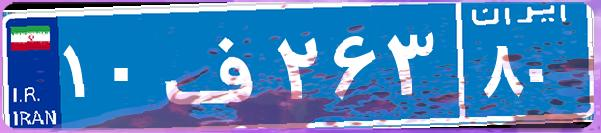0: (110, 28, 158, 105), (525, 38, 570, 115)
1: (57, 26, 110, 107)
2: (273, 28, 330, 110)
3: (385, 28, 445, 110)
6: (330, 28, 385, 110)
8: (475, 38, 525, 113)
ف: (158, 15, 273, 115)
